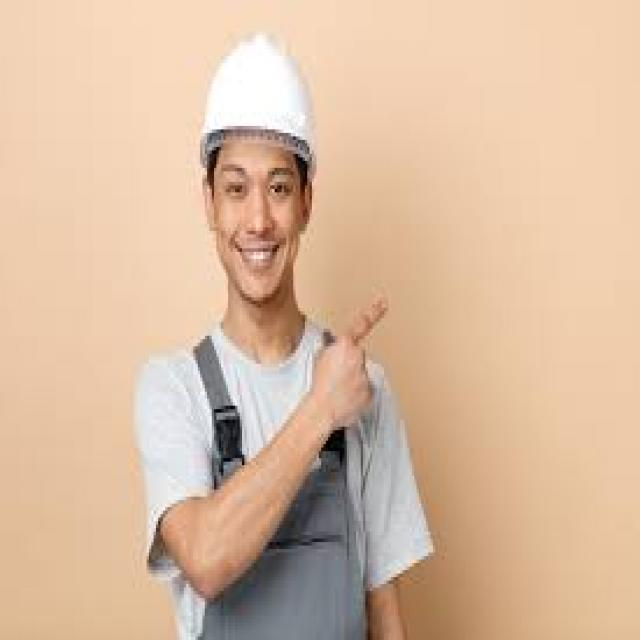Safety-Helmet: (193, 31, 326, 175)
